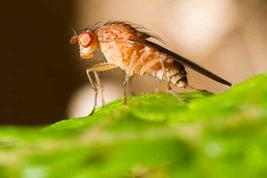phorid fly: (50, 8, 235, 134)
